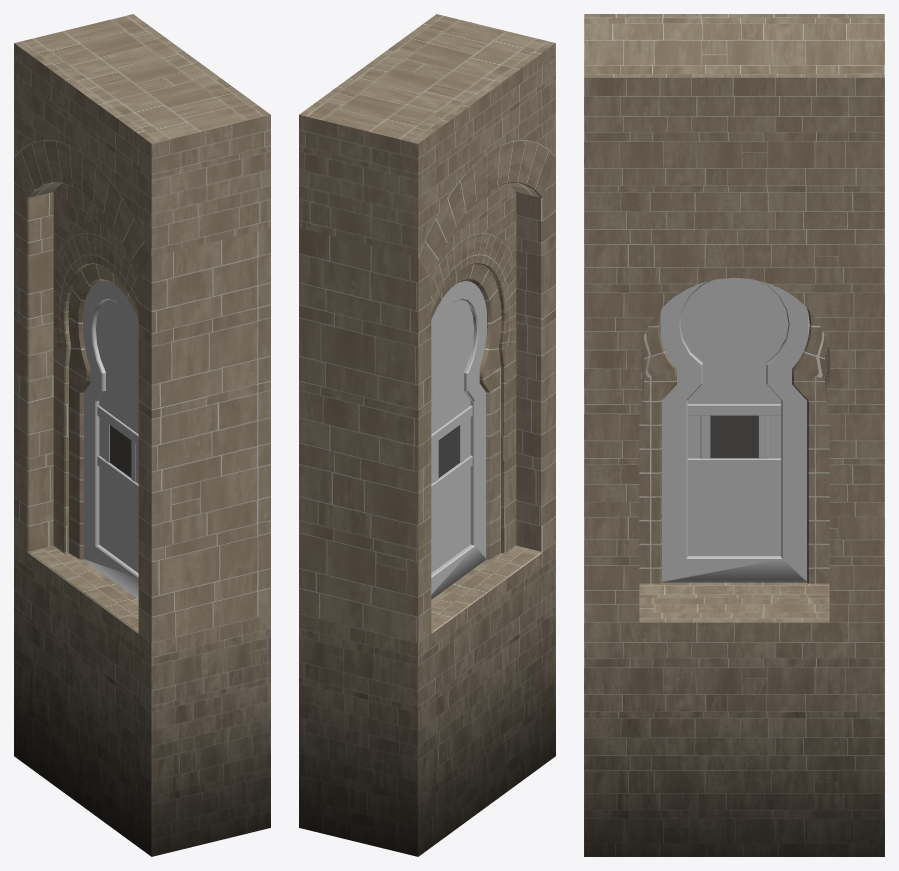
Rendered from WallDoor.fbx.
3 views of the same model, side by side, from view 1: azimuth 30°, elevation 25°; view 2: azimuth 150°, elevation 25°; view 3: azimuth 270°, elevation 25° (orthographic). The views are drawn at different scales.
Parts seen in each view (by area): view 1: WallDoor, FloorDoor, WoodDoor; view 2: WallDoor, FloorDoor, WoodDoor; view 3: WallDoor, FloorDoor, WoodDoor.
Part boxes in pixels (<box>): WallDoor: <box>14,14,270,642</box>; FloorDoor: <box>14,542,270,856</box>; WoodDoor: <box>83,281,138,599</box>; WallDoor: <box>299,14,555,642</box>; FloorDoor: <box>299,542,555,856</box>; WoodDoor: <box>431,281,486,599</box>; WallDoor: <box>584,14,884,622</box>; FloorDoor: <box>584,582,884,856</box>; WoodDoor: <box>659,277,809,582</box>.
Size of the model in its own units: 250 by 1430 by 500.
